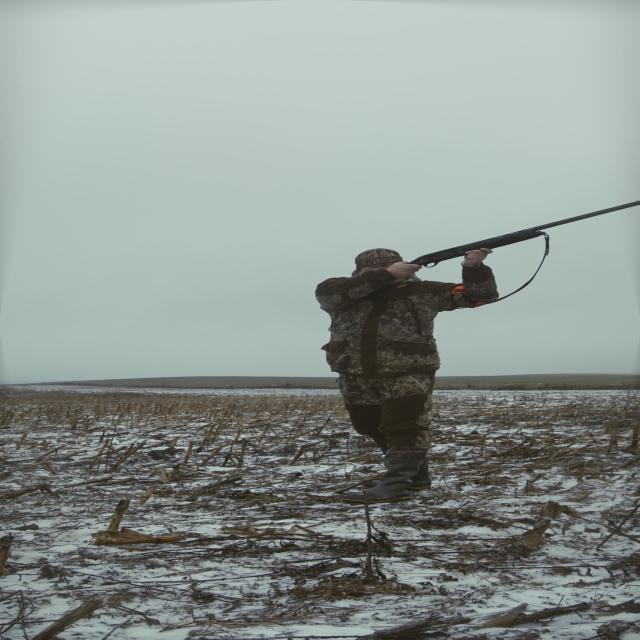poacher: (282, 226, 523, 492)
weapon: (401, 206, 640, 266)
